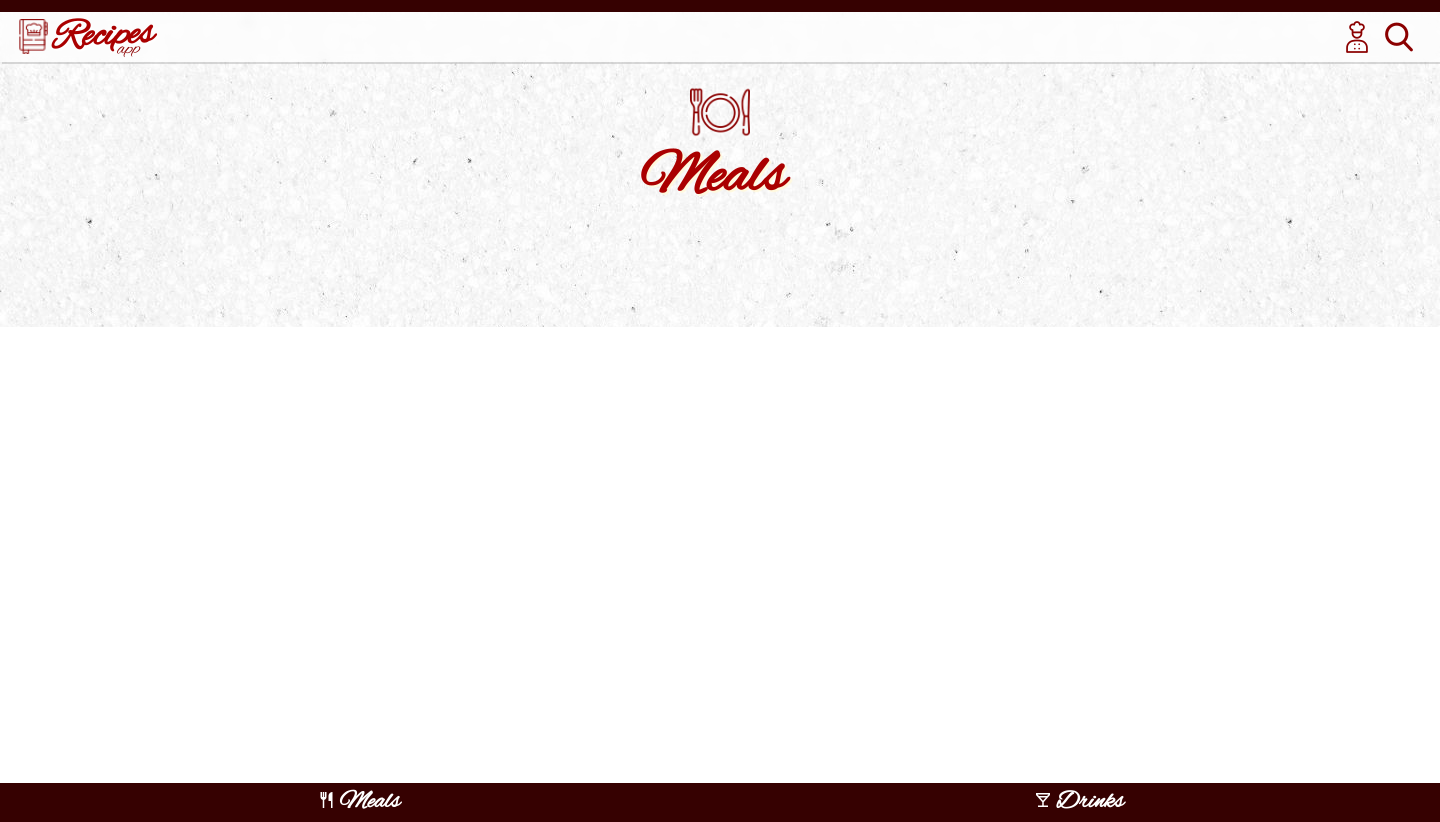
Test: A aplicação possui um componente Header › Verifica se ao clicar no botão de busca pela segunda vez, a barra de busca desaparece
The width and height of the screenshot is (1440, 822).
Click the button with test id "search-top-btn" at (1399, 37), box x1=1378 y1=16 x2=1420 y2=58
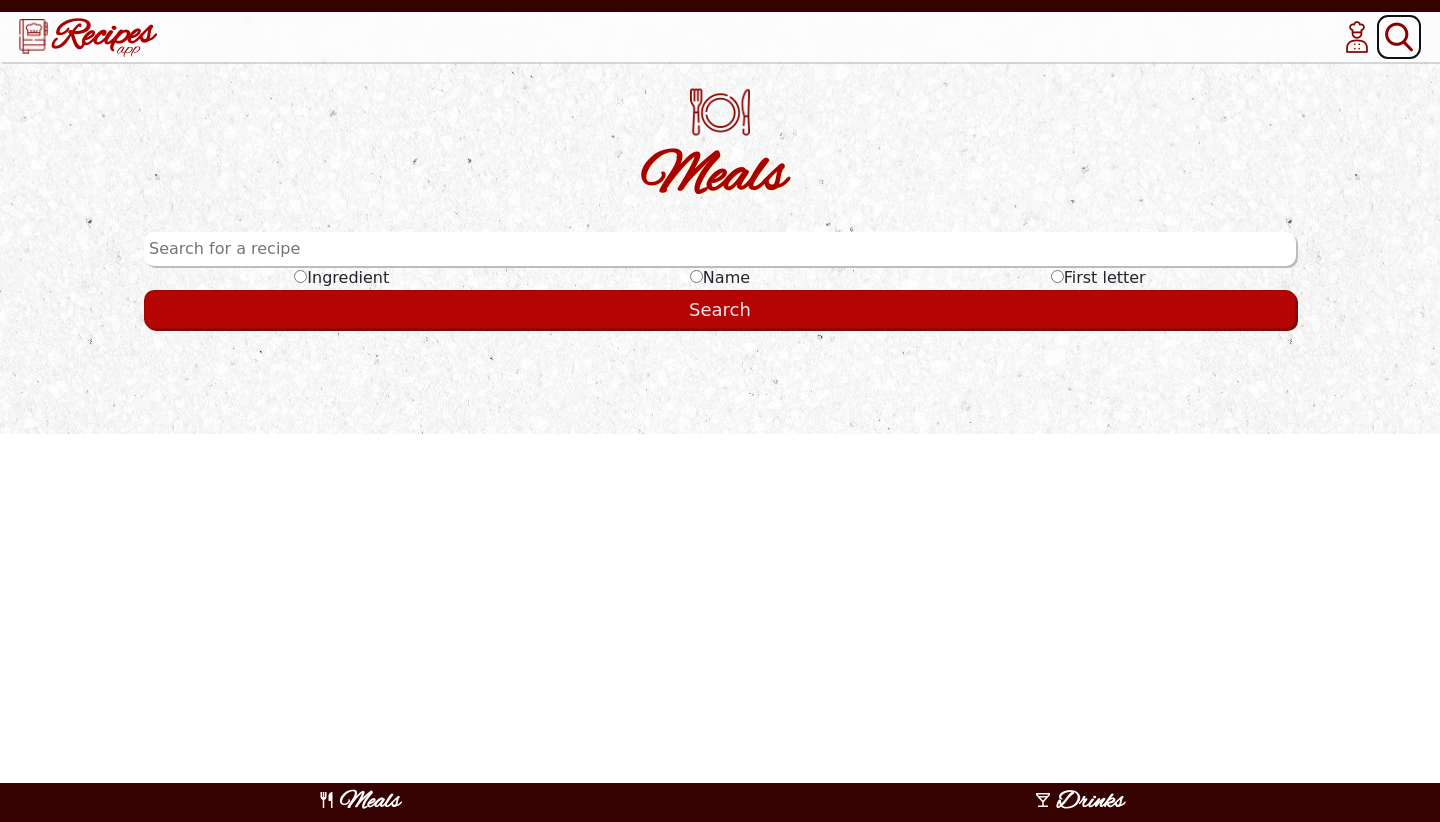
Click the button with test id "search-top-btn" at (1399, 37), box x1=1378 y1=16 x2=1420 y2=58
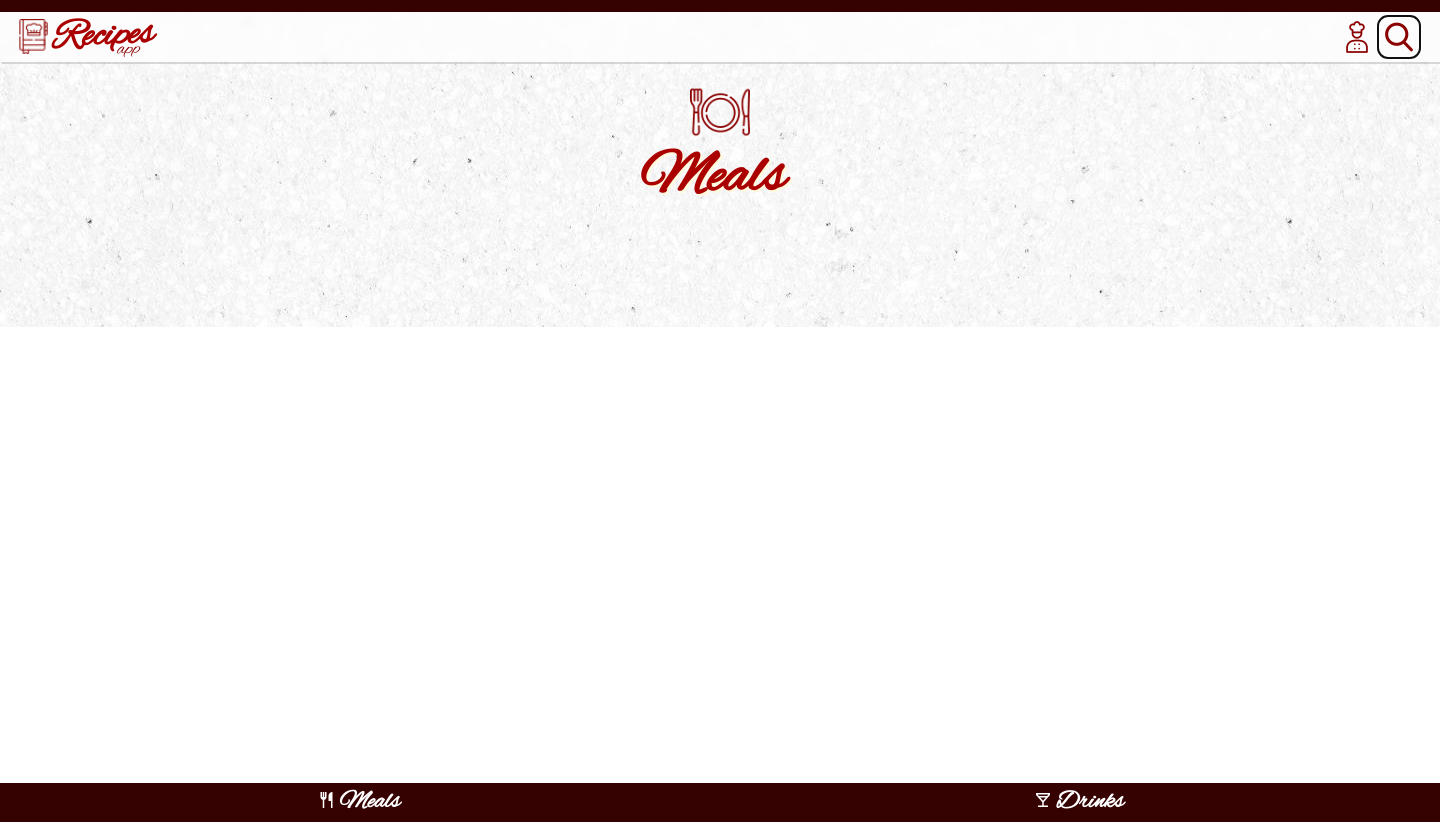
Expected: the field with test id "search-input" is gone
